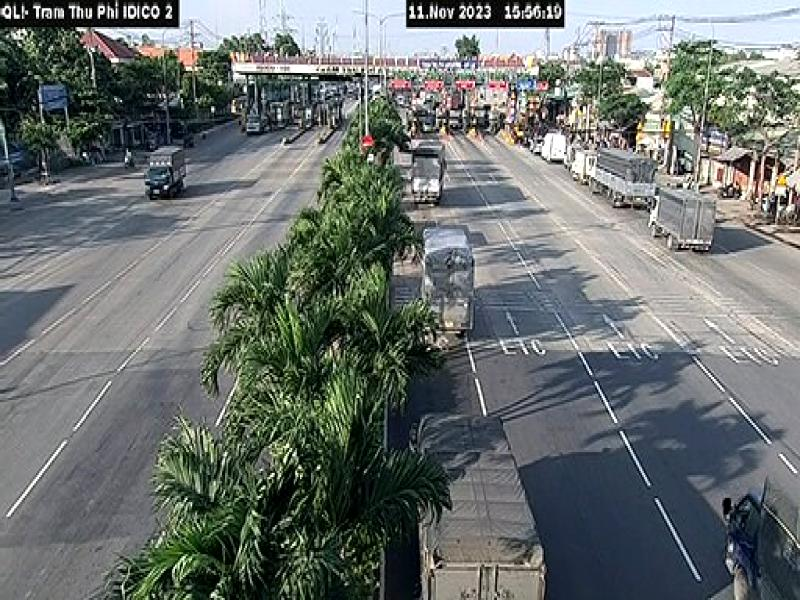truck: (410, 406, 544, 600), (728, 473, 800, 600), (422, 219, 475, 336), (586, 141, 656, 212), (654, 191, 718, 257), (145, 142, 185, 205), (410, 141, 445, 207)
